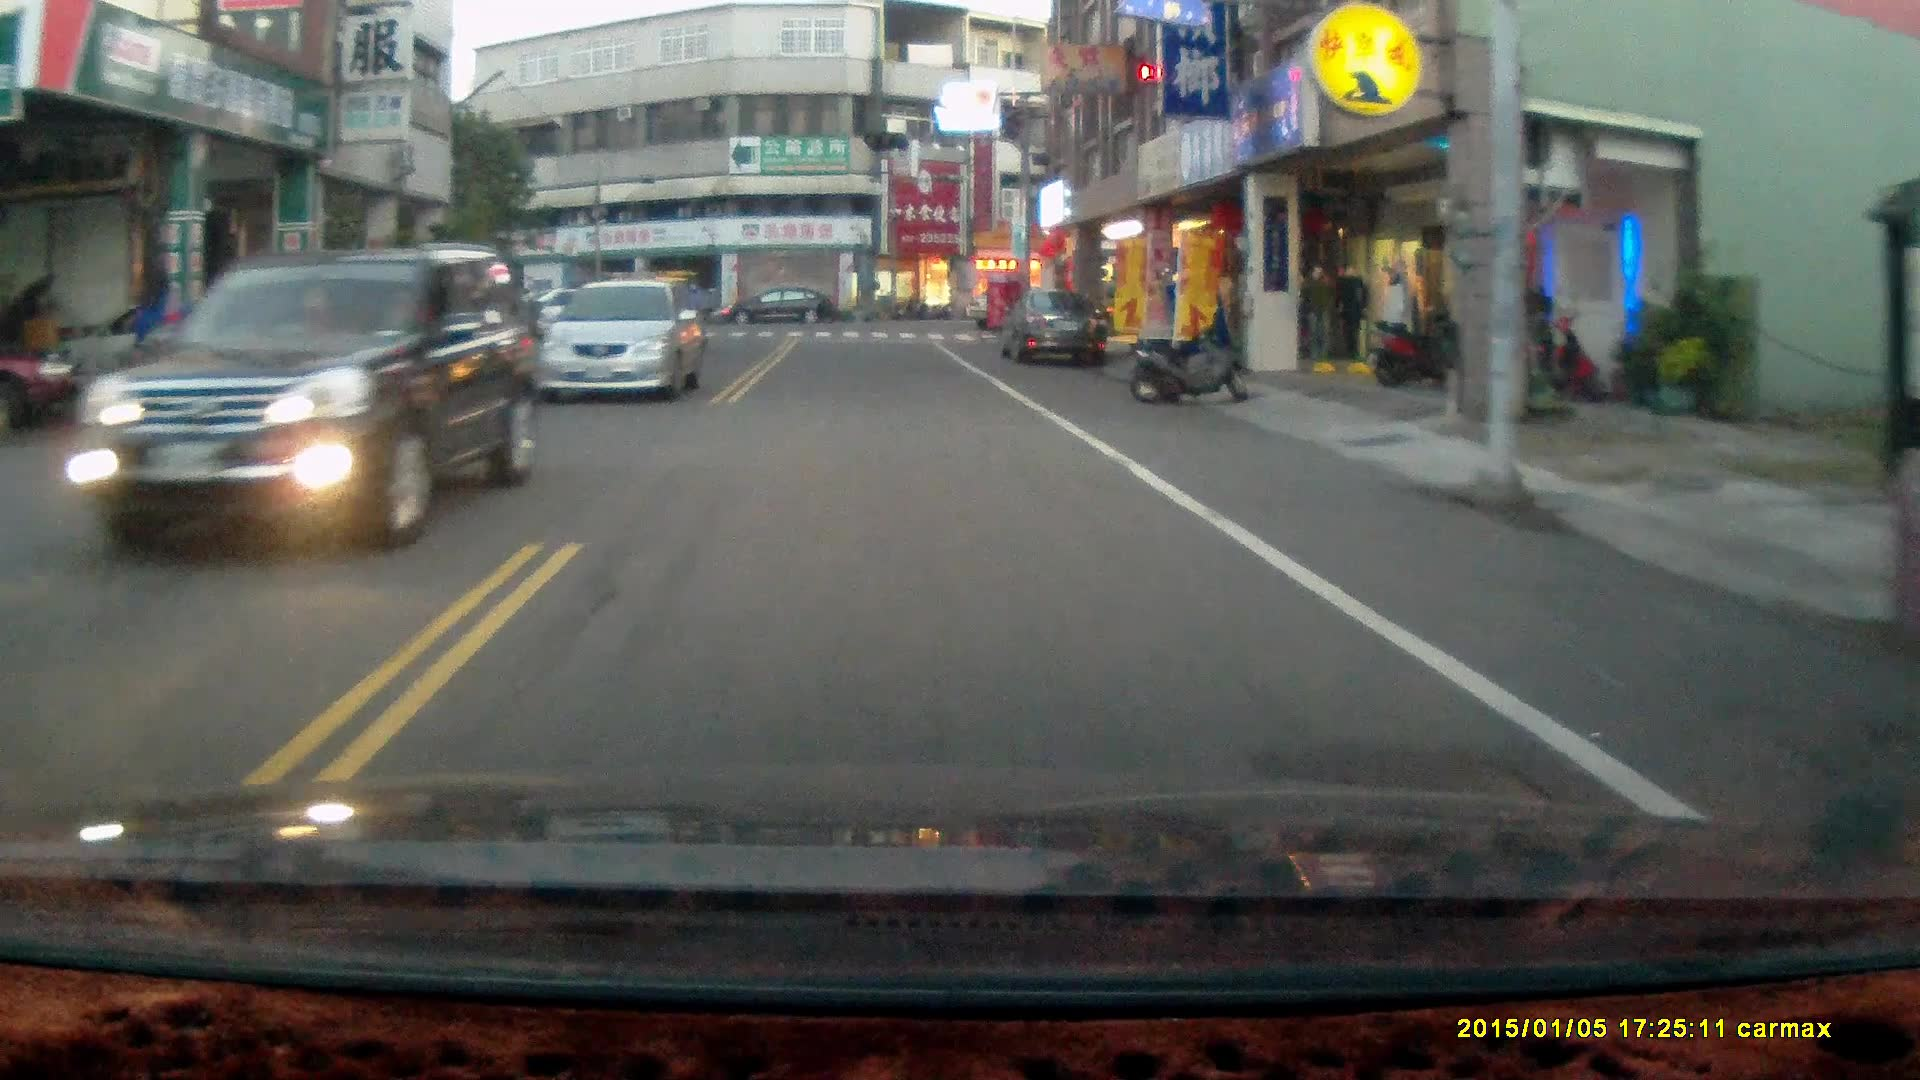pedestrian: (135, 260, 175, 403)
vehicle: (67, 245, 523, 563), (549, 280, 706, 405), (998, 286, 1111, 373), (719, 286, 838, 332)
